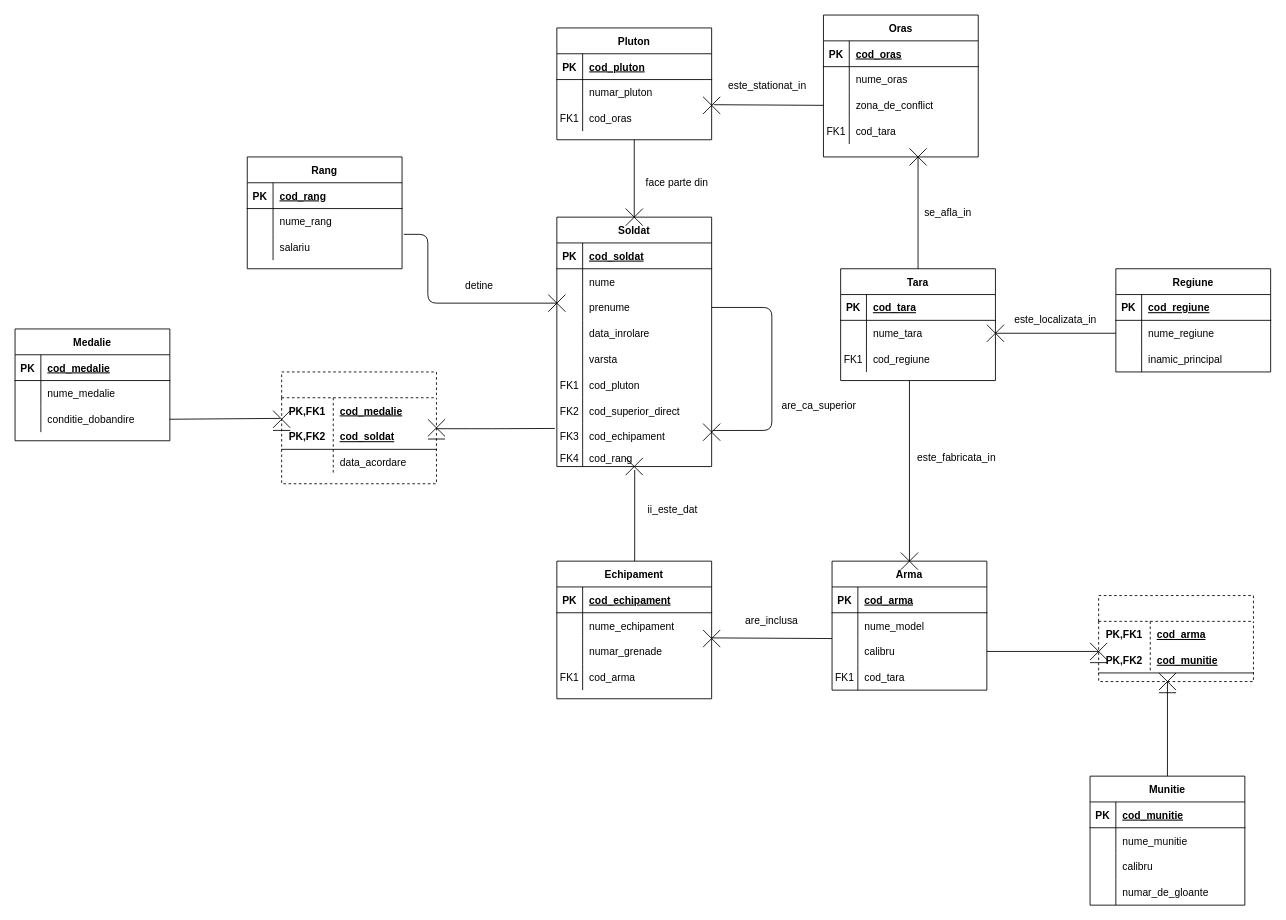
The diagram is 1286 pixels wide and 920 high, and some of its shapes have lost their labels. The box of each missing label's shape, as (x1, y1, x2, y2) in pixels:
A_fost_decorat_cu: (281, 371, 436, 484)
Utilizeaza: (1098, 595, 1253, 682)
